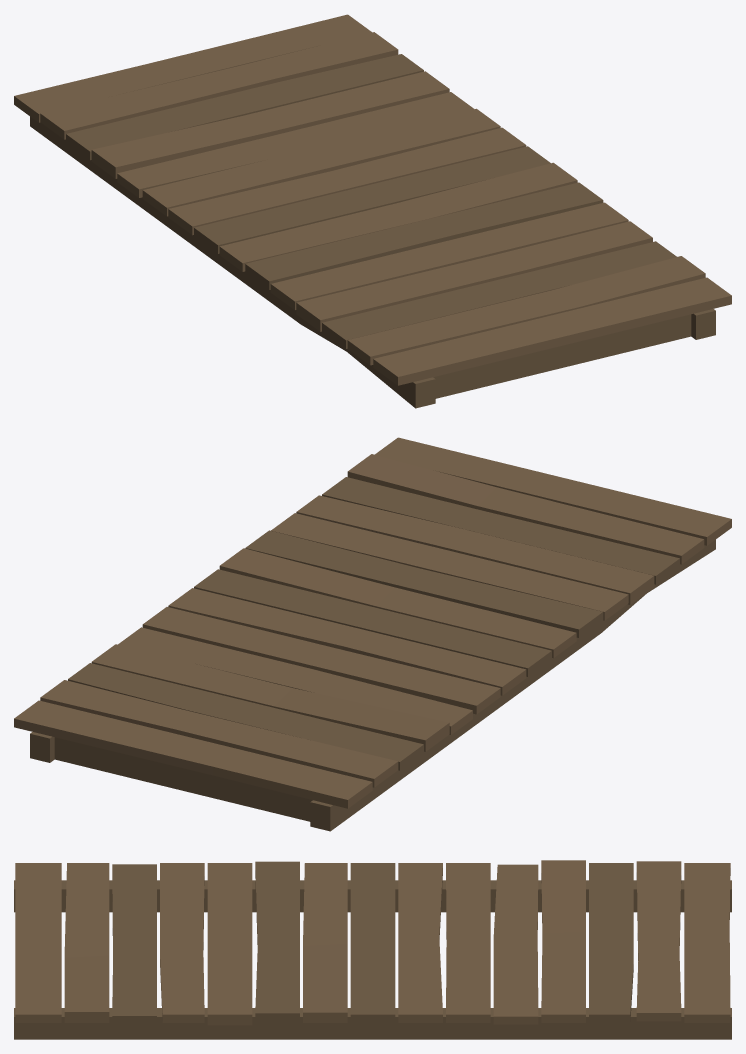
The model's file is SM_Props_City_Beach_Pier_Floor_01.fbx.
3 views of the same model, one above another, from view 1: azimuth 30°, elevation 25°; view 2: azimuth 150°, elevation 25°; view 3: azimuth 270°, elevation 25° (orthographic). The views are drawn at different scales.
Parts seen in each view (by area): view 1: SM_Props_City_Beach_Pier_Floor_01; view 2: SM_Props_City_Beach_Pier_Floor_01; view 3: SM_Props_City_Beach_Pier_Floor_01.
Part boxes in pixels (x1,y1,x2,y2): SM_Props_City_Beach_Pier_Floor_01: (14, 14, 731, 408); SM_Props_City_Beach_Pier_Floor_01: (14, 437, 731, 831); SM_Props_City_Beach_Pier_Floor_01: (14, 860, 731, 1039).
Bounding box in the file's own units: 200 × 21.69 × 400.
